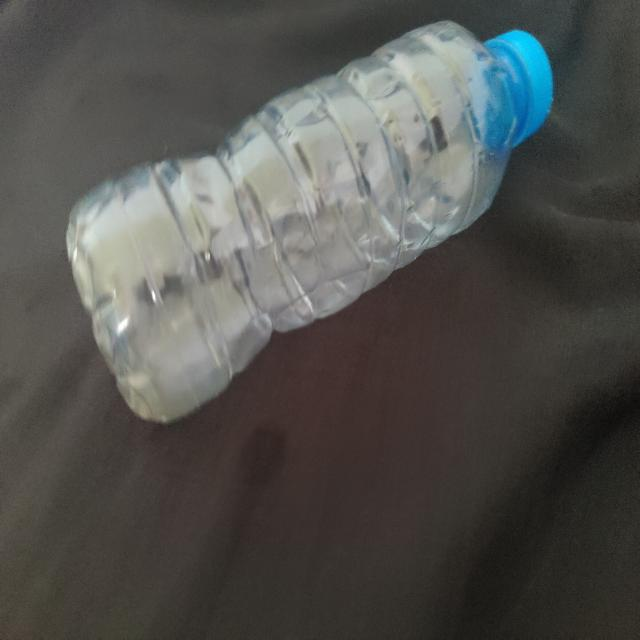plastic: (66, 20, 551, 420)
